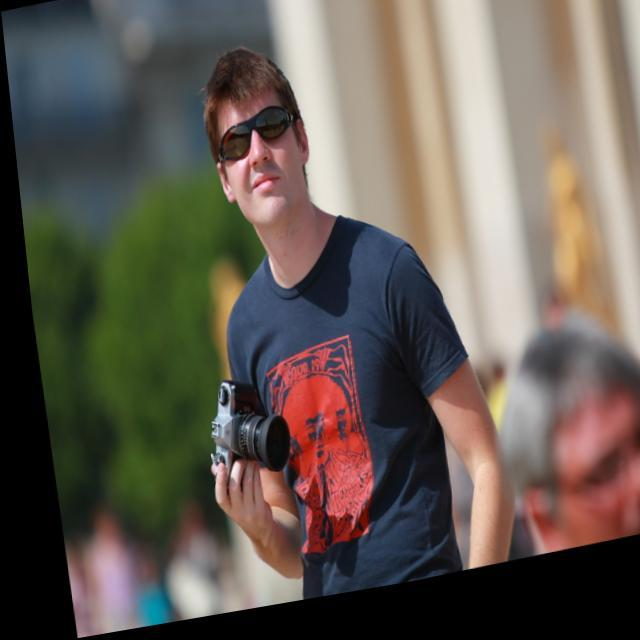Nonhelmet: (198, 45, 315, 228)
